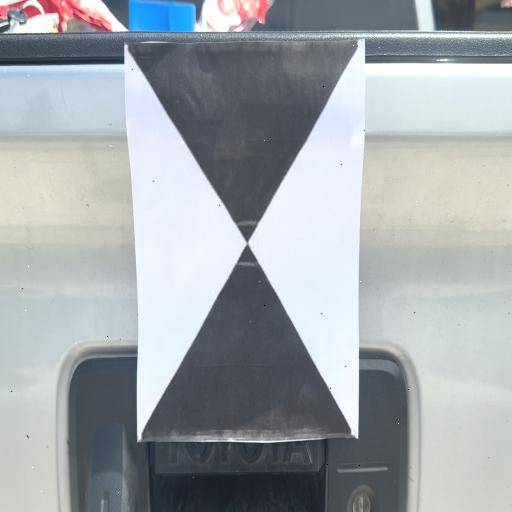target: (130, 45, 353, 438)
